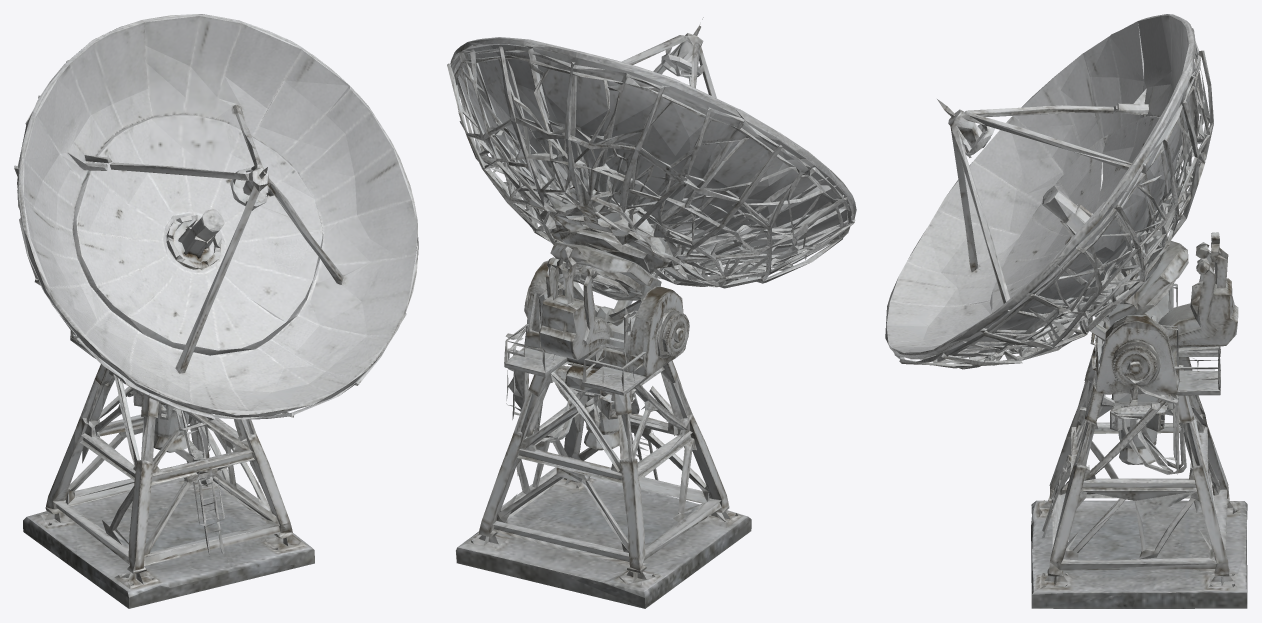
Rendered from dish.glb.
The picture shows the model from 3 angles, left to right: view 1: azimuth 30°, elevation 25°; view 2: azimuth 150°, elevation 25°; view 3: azimuth 270°, elevation 25°; orthographic projection. The views are drawn at different scales.
Visible parts, largest first — view 1: output_unwrapped; view 2: output_unwrapped; view 3: output_unwrapped.
Boxes of the visible parts, <box> form: output_unwrapped: <box>14,14,418,608</box>; output_unwrapped: <box>447,17,856,608</box>; output_unwrapped: <box>885,14,1247,608</box>.
Size of the model in its own units: 1.46 by 1.9 by 1.2.
Materials: 1 (1 with a texture image).
